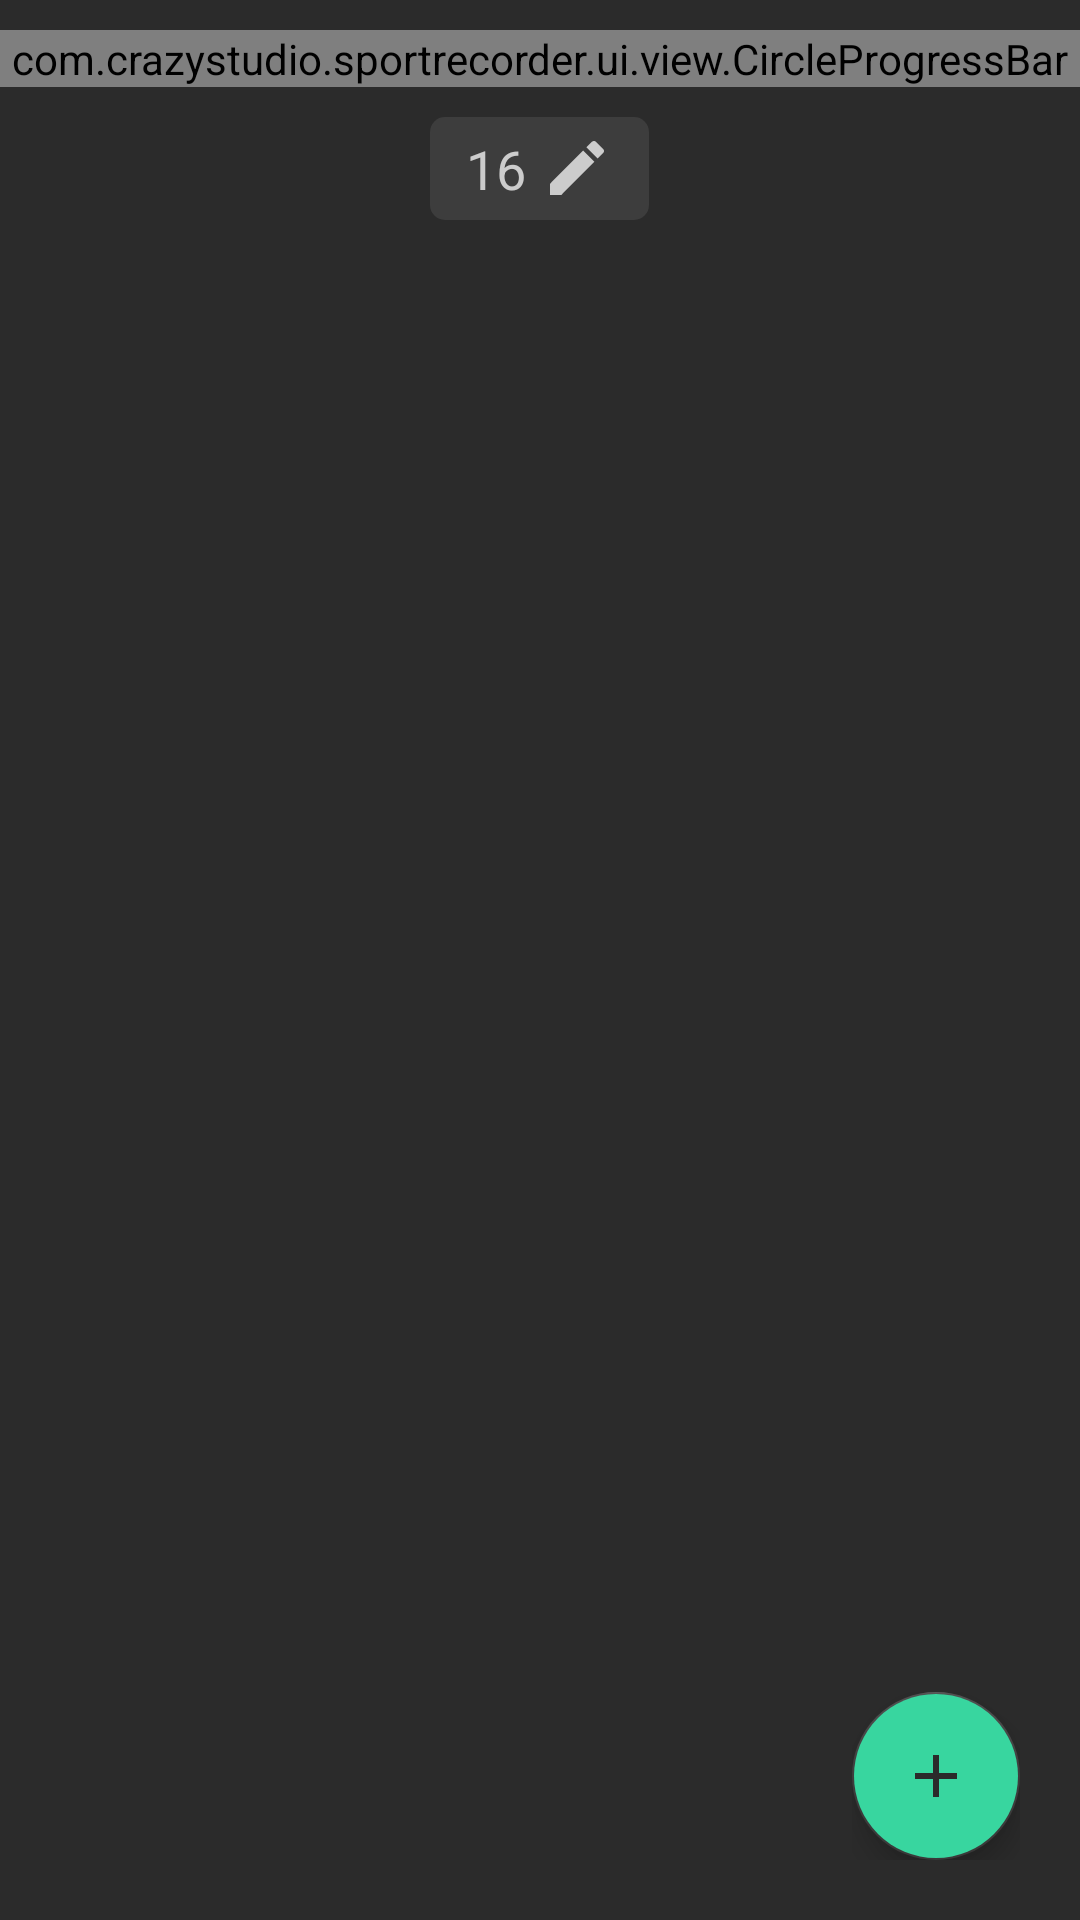

Screen size 1080 x 1920. Icon name, then its center in pixels as [x,y]:
add: [936,1775]
edit: [577,168]
